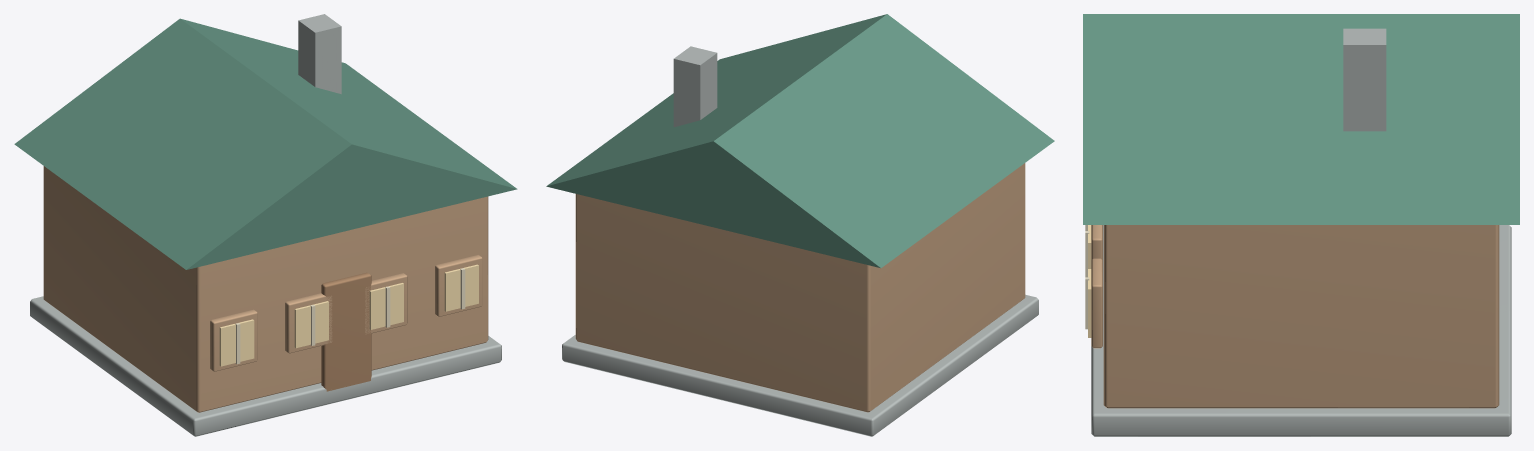
File: fernwood-chalet.glb
3 renders of one model, left to right at view 1: azimuth 30°, elevation 25°; view 2: azimuth 150°, elevation 25°; view 3: azimuth 270°, elevation 25°, orthographic. The views are drawn at different scales.
Parts seen in each view (by area): view 1: Fernwood chalet pitched roof, Fernwood chalet walls, Fernwood chalet stone footing, Fernwood chalet front door, Chimney, Warm pane, Warm pane.001, Warm pane.002, Warm pane.003, Window trim, Window trim.003, Window trim.001 (+1 smaller); view 2: Fernwood chalet pitched roof, Fernwood chalet walls, Fernwood chalet stone footing, Chimney; view 3: Fernwood chalet pitched roof, Fernwood chalet walls, Fernwood chalet stone footing, Chimney, Window trim.003.
Part boxes in pixels (x1,y1,x2,y2): Fernwood chalet pitched roof: (14,18,517,269); Fernwood chalet walls: (43,166,488,412); Fernwood chalet stone footing: (30,296,501,436); Fernwood chalet front door: (321,272,371,391); Chimney: (298,14,341,94); Warm pane: (219,319,254,366); Warm pane.001: (294,301,328,348); Warm pane.002: (369,283,403,329); Warm pane.003: (444,264,478,311); Window trim: (210,309,257,371); Window trim.003: (435,255,482,316); Window trim.001: (285,293,332,353); Fernwood chalet pitched roof: (546,14,1054,267); Fernwood chalet walls: (575,163,1025,412); Fernwood chalet stone footing: (562,294,1038,436); Chimney: (673,46,717,127); Fernwood chalet pitched roof: (1083,14,1519,224); Fernwood chalet walls: (1103,225,1499,408); Fernwood chalet stone footing: (1091,225,1511,436); Chimney: (1343,28,1386,131); Window trim.003: (1091,258,1102,348).
Size of the model in its own units: 5.9 by 4.75 by 5.3.
